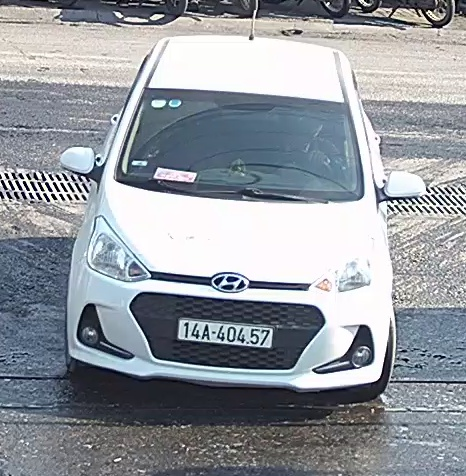vehicle plate: (177, 314, 278, 354)
